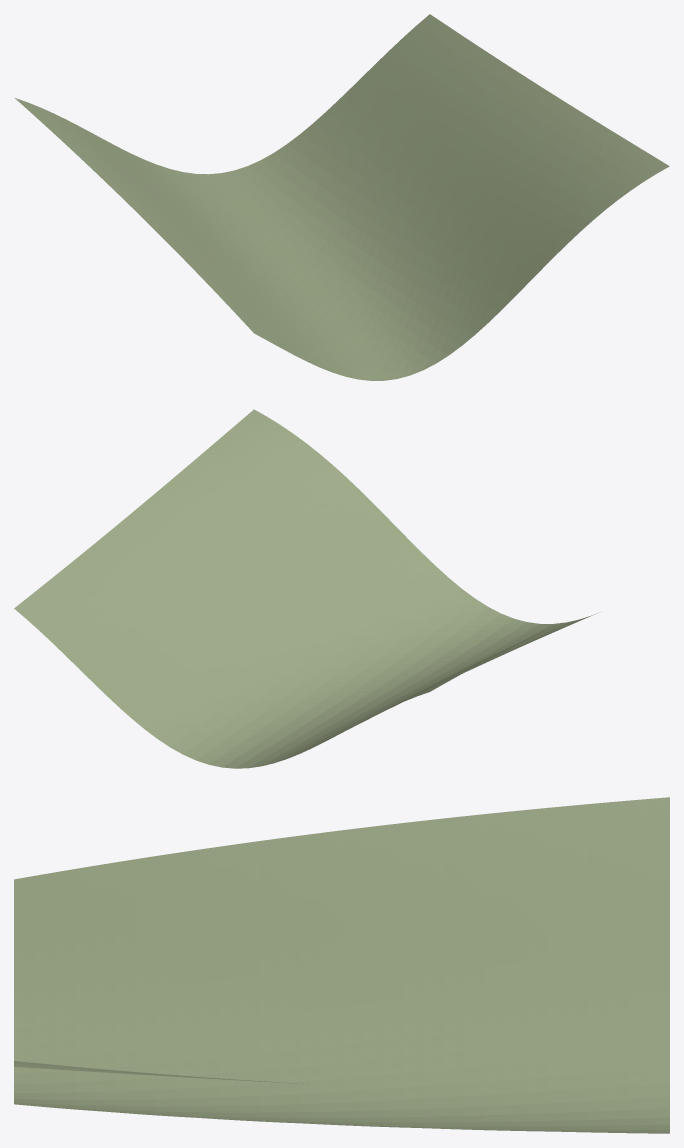
The model's file is expanse-14-11.glb.
The picture shows the model from 3 angles, top to bottom: view 1: azimuth 30°, elevation 25°; view 2: azimuth 150°, elevation 25°; view 3: azimuth 270°, elevation 25°; orthographic projection. The views are drawn at different scales.
Parts seen in each view (by area): view 1: expanse-14-11; view 2: expanse-14-11; view 3: expanse-14-11.
Part boxes in pixels (left/top/right/bottom): expanse-14-11: left=15, top=14, right=669, bottom=380; expanse-14-11: left=14, top=409, right=597, bottom=768; expanse-14-11: left=14, top=797, right=669, bottom=1133.
Size of the model in its own units: 256 by 85.98 by 256.
